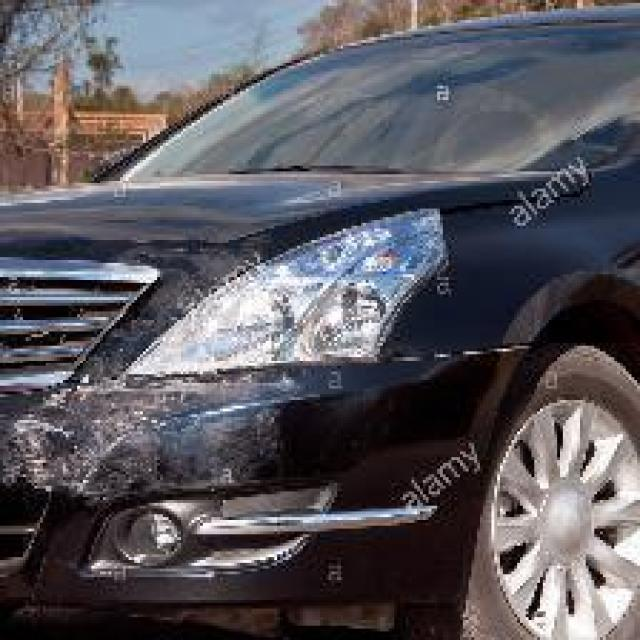damaged: (0, 246, 286, 497)
